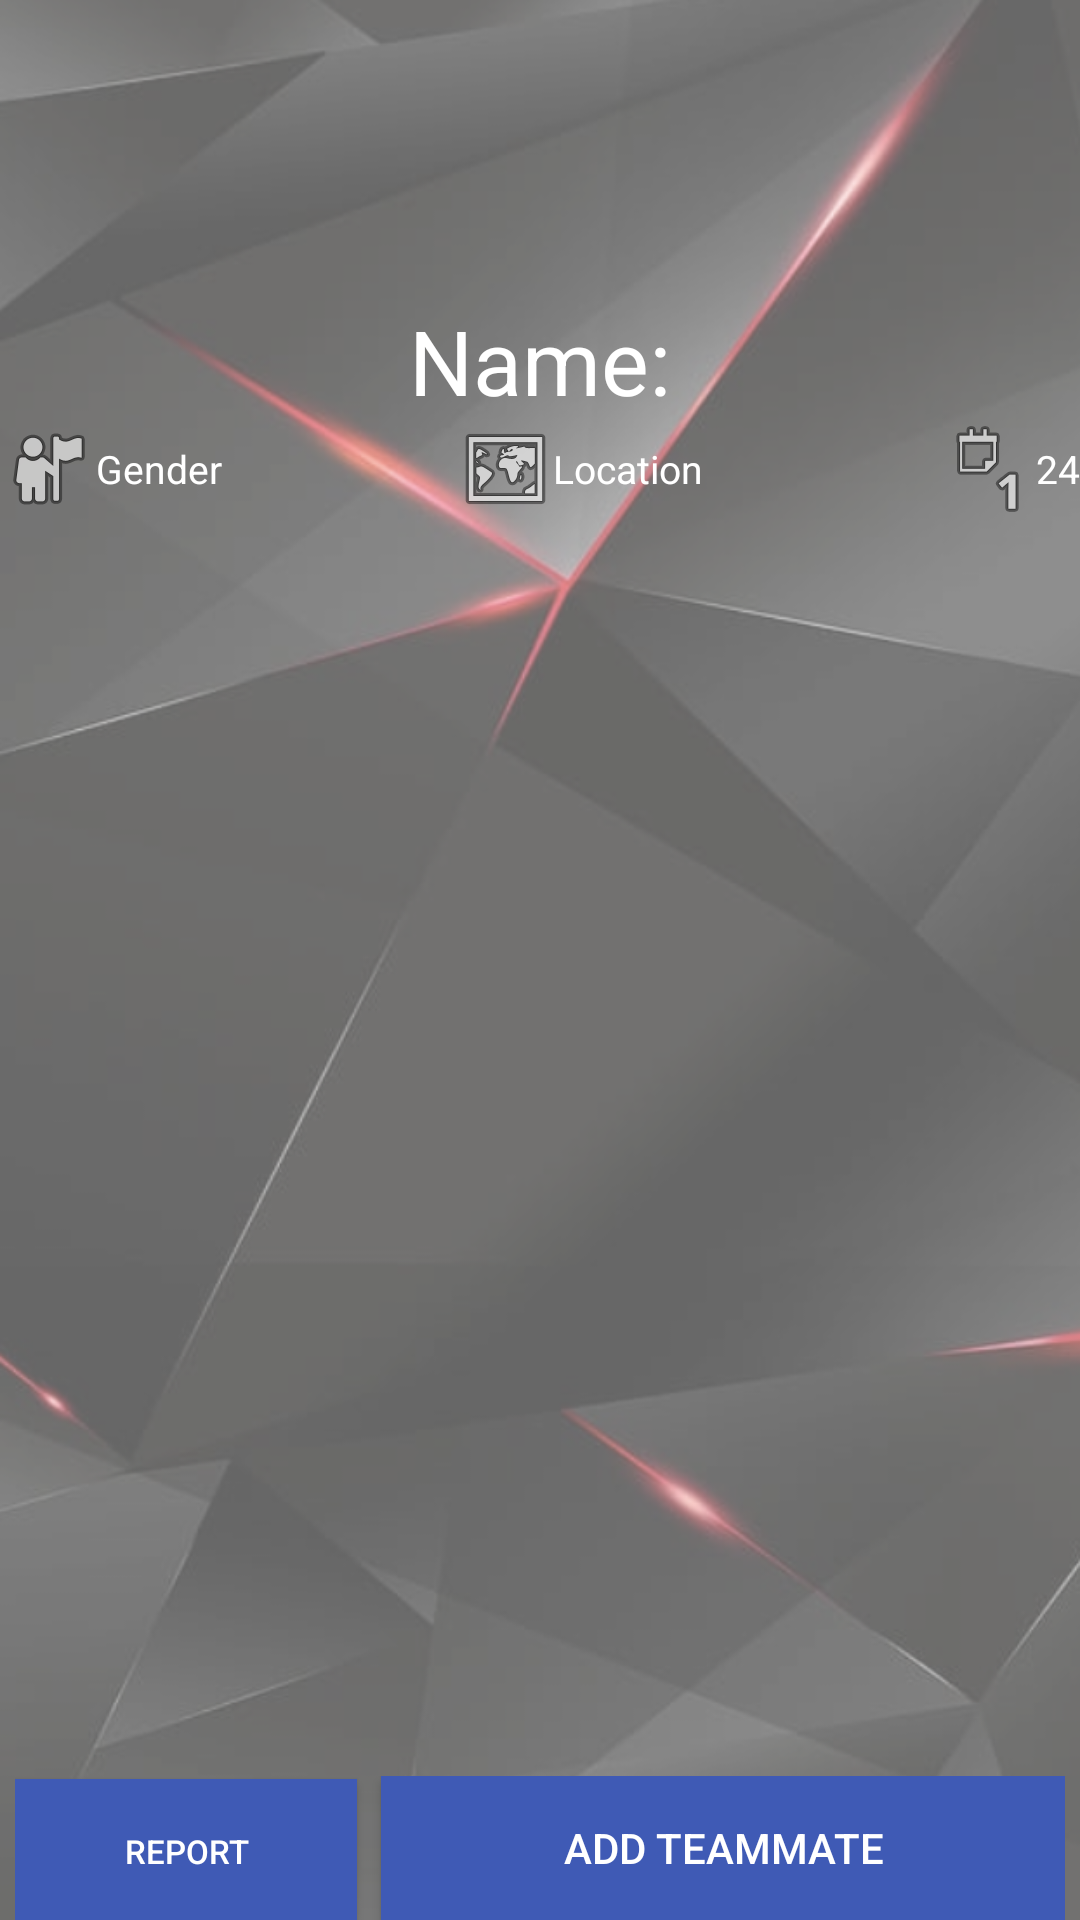

Icon click points for this 1080×1920 phone screenshot, format (x,y):
day: (987,469)
mapmode: (505,469)
myplaces: (49,469)
